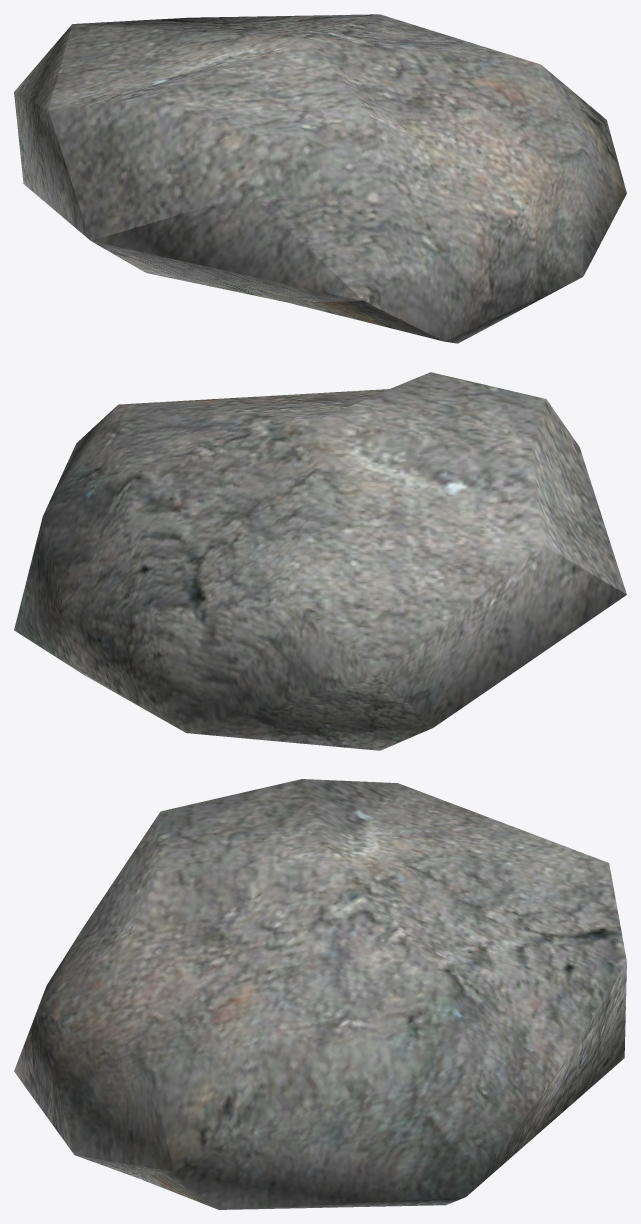
File: rock10.glb
The picture shows the model from 3 angles, top to bottom: view 1: azimuth 30°, elevation 25°; view 2: azimuth 150°, elevation 25°; view 3: azimuth 270°, elevation 25°; orthographic projection. The views are drawn at different scales.
Visible parts, largest first — view 1: rock10; view 2: rock10; view 3: rock10.
Part boxes in pixels (left/top/right/bottom): rock10: left=14, top=14, right=626, bottom=343; rock10: left=14, top=372, right=626, bottom=750; rock10: left=14, top=779, right=626, bottom=1209.
Size of the model in its own units: 2.93 by 1.28 by 2.82.
1 material, 1 textured.
